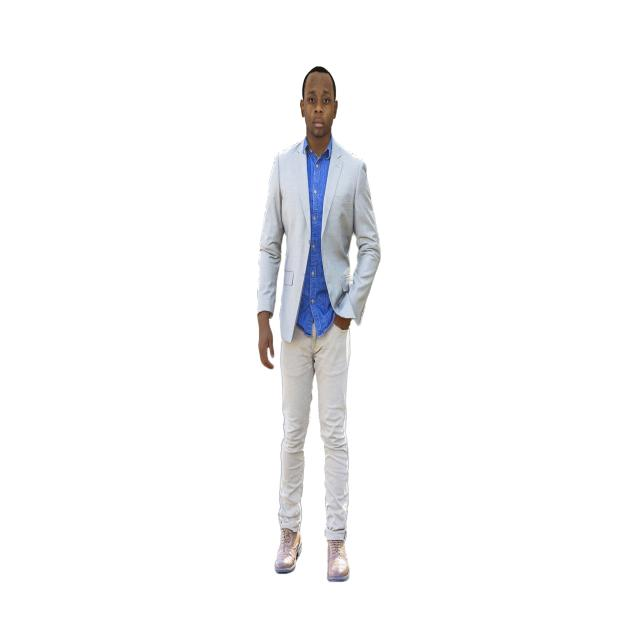jovem: (250, 59, 386, 588)
